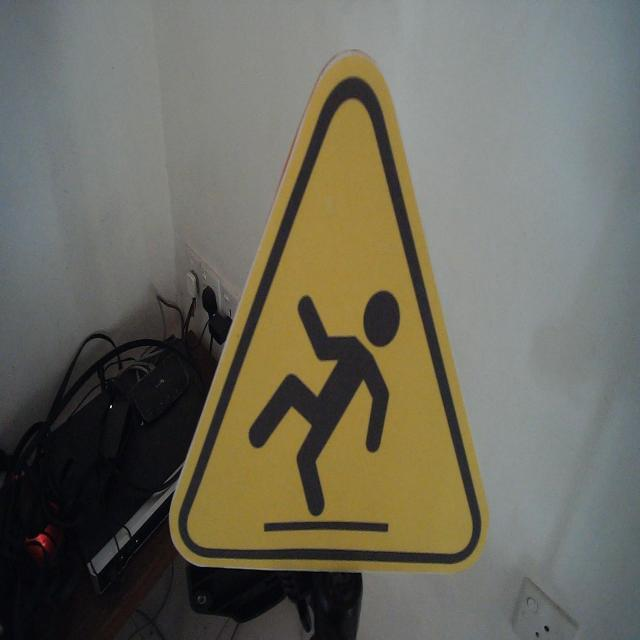slippery_sign: (167, 44, 491, 579)
